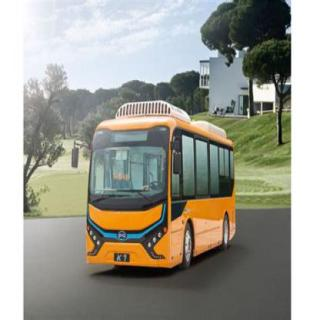Normal_vehicle: (69, 90, 245, 285)
